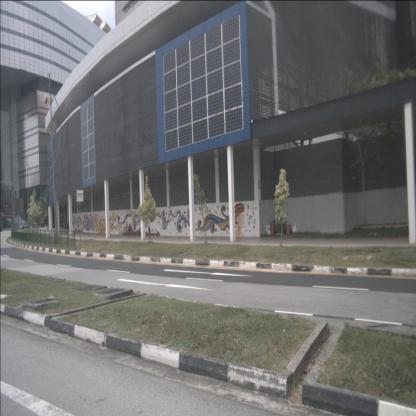movable_object-trafficcone: (286, 220, 292, 236), (270, 222, 275, 236)
vehicle-car: (18, 219, 28, 229)
